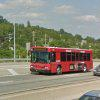Bus: (25, 40, 92, 76)
